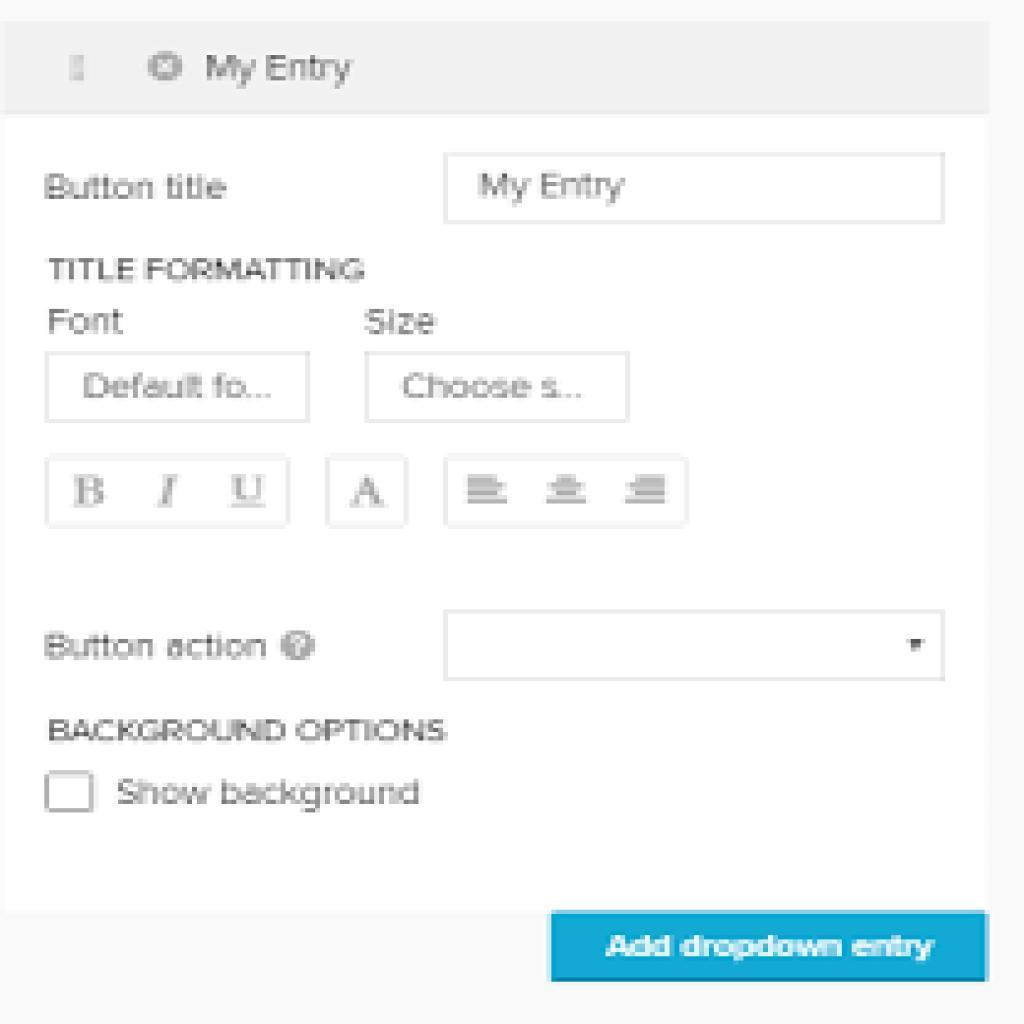button: (553, 910, 991, 982)
checkbox: (46, 770, 92, 814)
dropdown: (448, 613, 944, 686)
input: (447, 154, 948, 221), (43, 350, 312, 421), (367, 354, 629, 420)
label: (552, 913, 993, 982), (114, 771, 426, 816)
